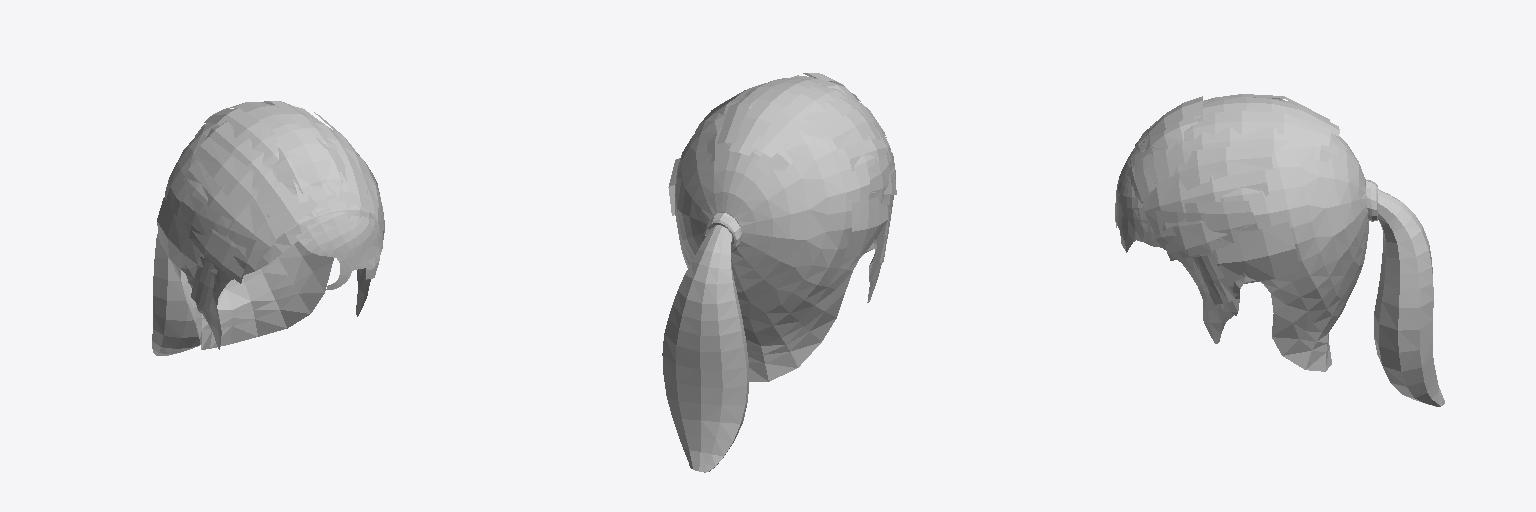
Rendered from hair_001.obj.
3 renders of one model, left to right at view 1: azimuth 30°, elevation 25°; view 2: azimuth 150°, elevation 25°; view 3: azimuth 270°, elevation 25°, orthographic.
Parts seen in each view (by area): view 1: hair_001; view 2: hair_001; view 3: hair_001.
Part boxes in pixels (bbox=[...]): hair_001: bbox=[152, 101, 384, 355]; hair_001: bbox=[662, 73, 896, 472]; hair_001: bbox=[1115, 94, 1444, 406].
Size of the model in its own units: 17.18 by 26.87 by 25.96.